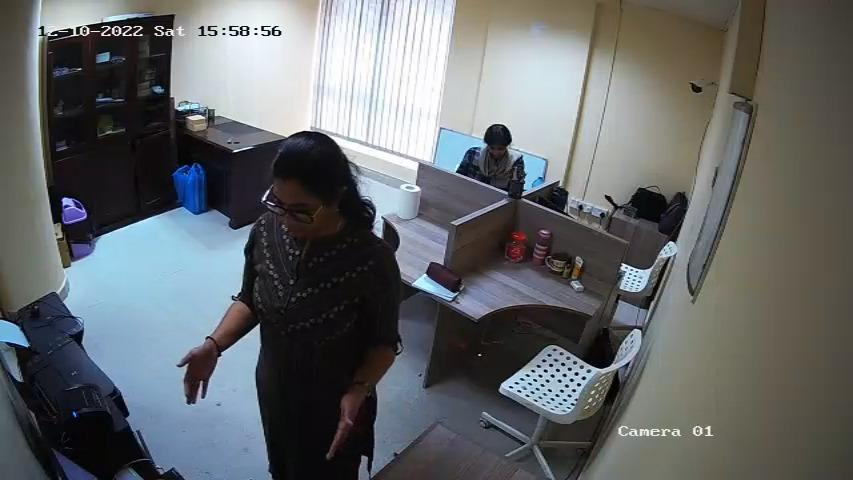no_apron: (172, 344, 224, 404), (325, 392, 357, 462)
no_gloves: (262, 131, 375, 208), (475, 118, 518, 154)
no_hairnet: (266, 199, 337, 255), (480, 139, 514, 168)
